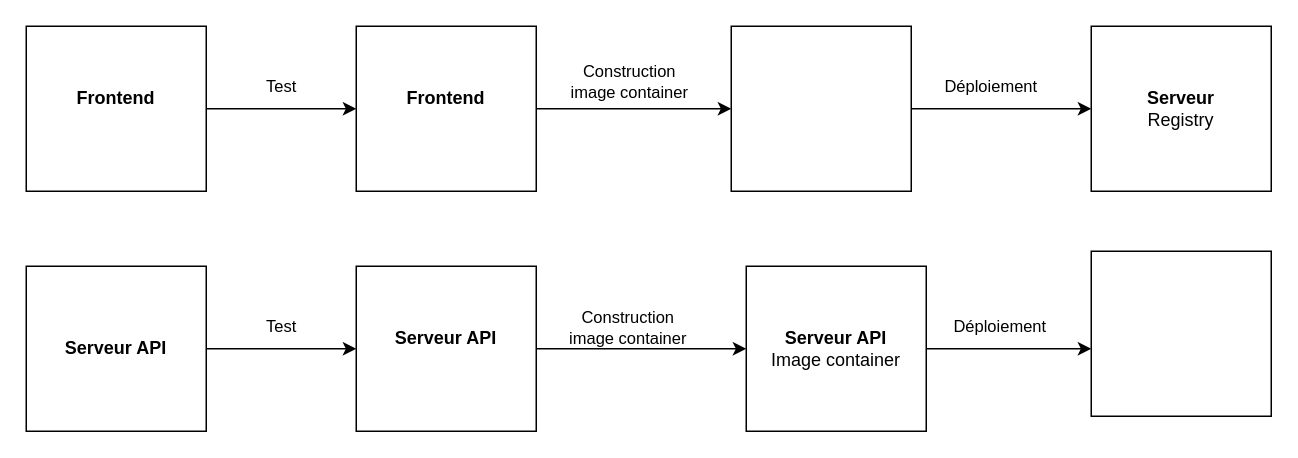
The diagram is 1298 pixels wide and 458 high, and some of its shapes have lost their labels. The shapes that lost their labels are listed below. From the top down, each one's centre as x and y in pixels, then its label:
(x=820, y=108): Serveur Image container
(x=1180, y=333): Serveur API Registry
